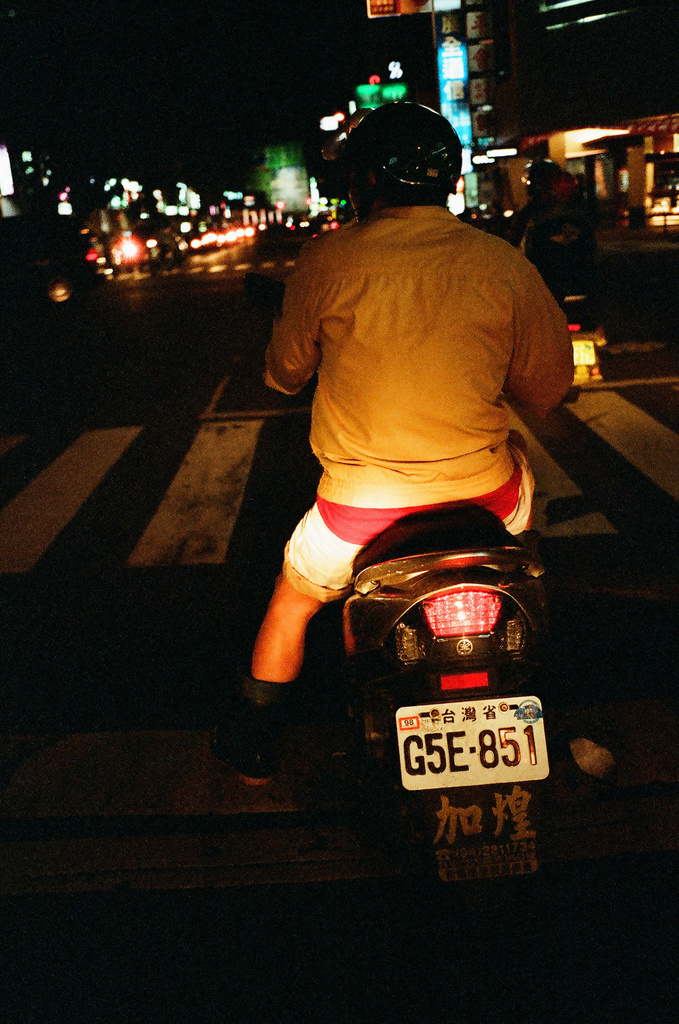license plate: (388, 716, 556, 791)
